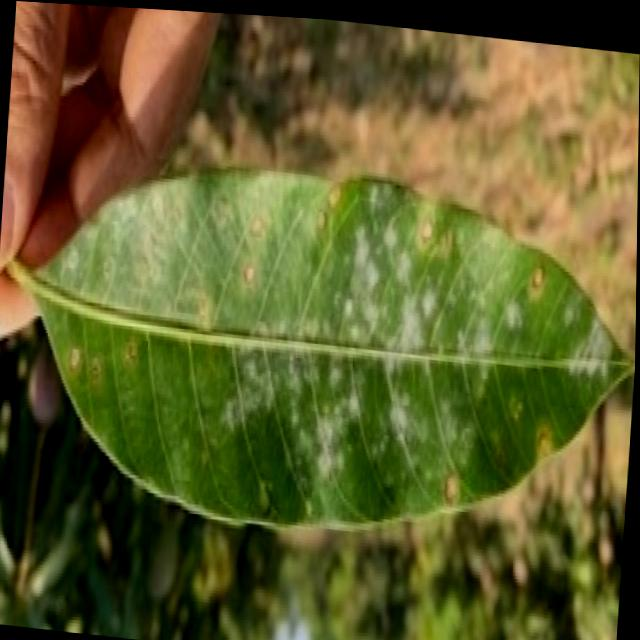Anthracnose: (65, 302, 143, 399), (241, 206, 265, 283), (519, 256, 551, 299), (317, 180, 347, 215), (439, 472, 464, 502), (529, 434, 559, 456)
Powdery Mildew: (265, 278, 475, 446)
